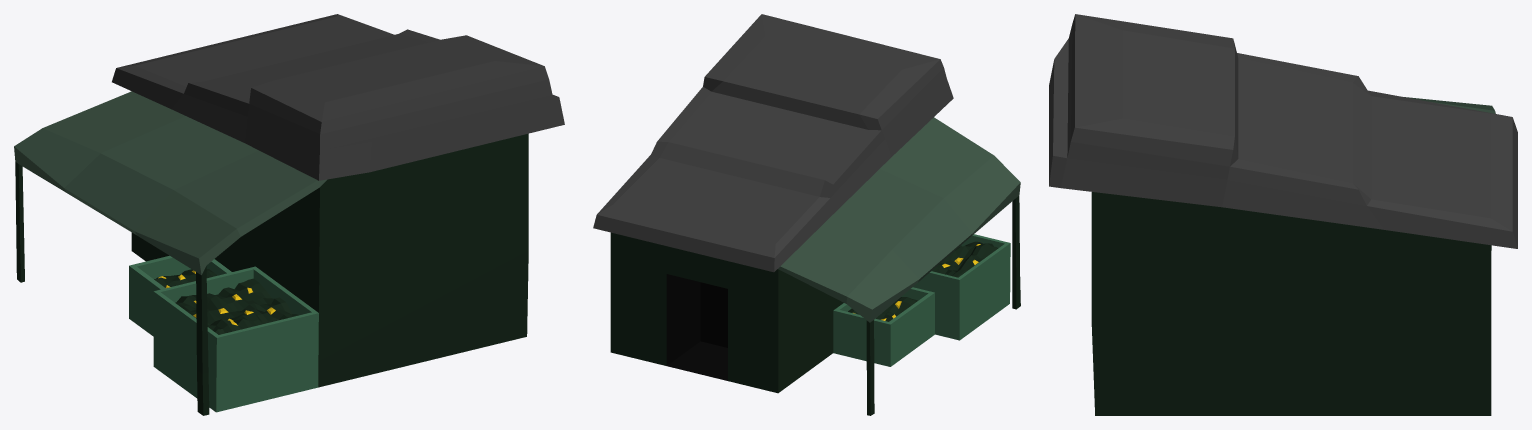
Rendered from goldMinerHut_V1.fbx.
3 renders of one model, left to right at view 1: azimuth 30°, elevation 25°; view 2: azimuth 150°, elevation 25°; view 3: azimuth 270°, elevation 25°, orthographic. The views are drawn at different scales.
Visible parts, largest first — view 1: goldMinerHut; view 2: goldMinerHut; view 3: goldMinerHut.
Part boxes in pixels (x1=…): goldMinerHut: x1=14, y1=14, x2=564, y2=415; goldMinerHut: x1=593, y1=14, x2=1020, y2=415; goldMinerHut: x1=1049, y1=14, x2=1517, y2=415.
Size of the model in its own units: 1496 by 1138 by 1652.
